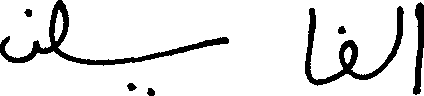ا: (303, 6, 315, 85), (415, 0, 423, 94)
ض: (0, 0, 69, 64)
ف: (336, 24, 356, 79)
ل: (371, 4, 402, 78)
ي: (120, 35, 230, 95)
